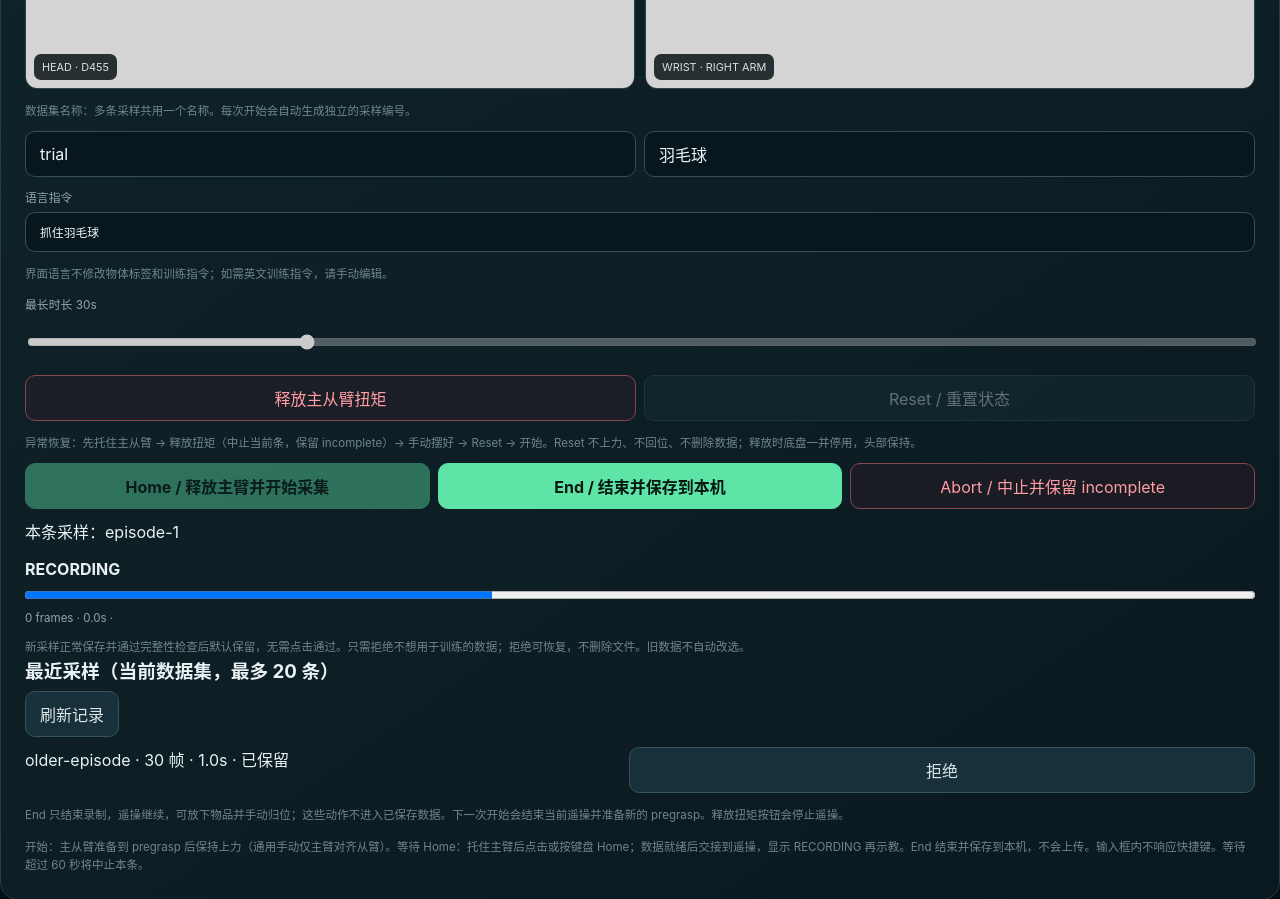
two-stage collection controls › can reject a previous episode while recording another without changing current state
(page scrolled)
Click the button with aria-label "older-episode 拒绝". click: [942, 770]
box: 629,747 -> 1255,793
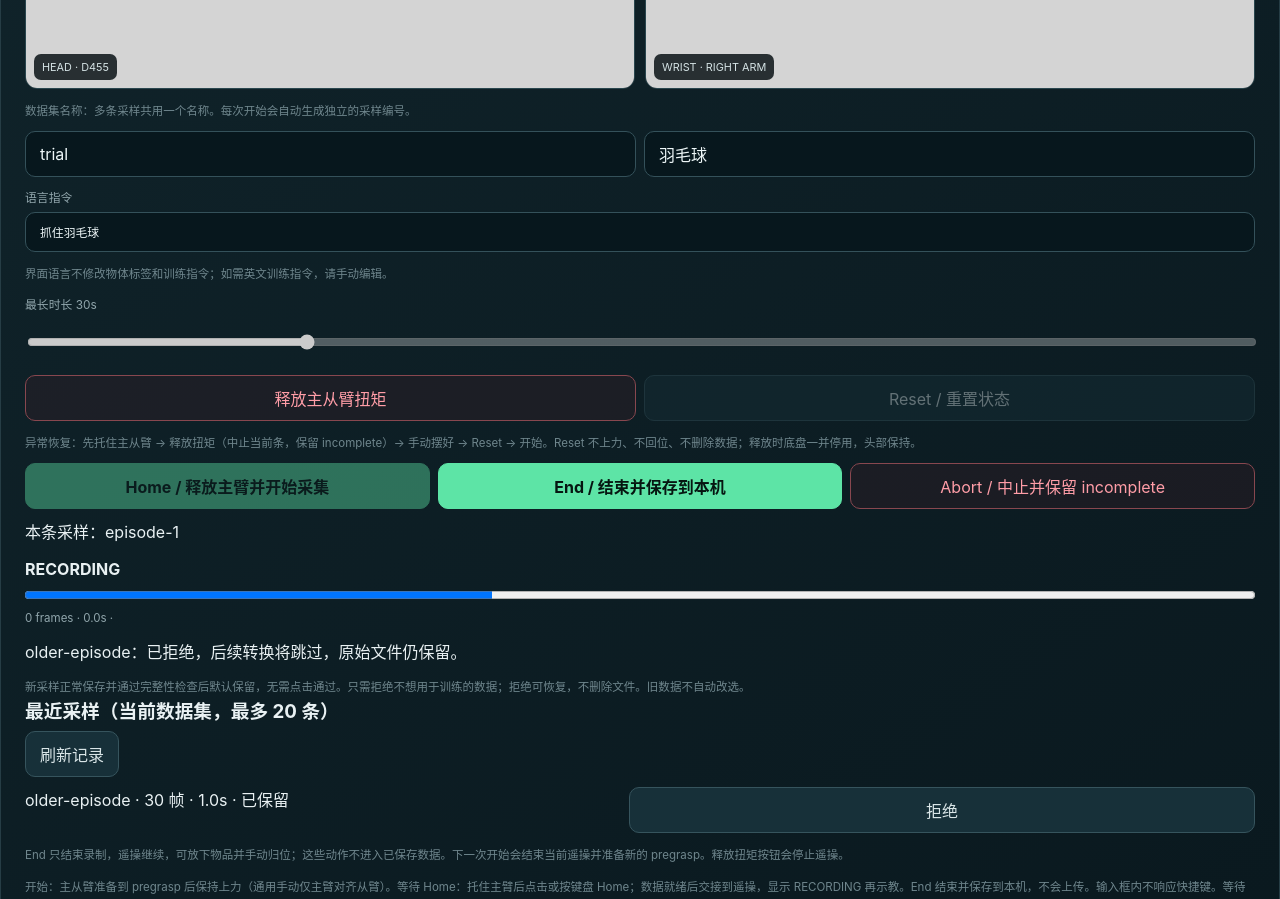
Expected: the text "older-episode：已拒绝，后续转换将跳过，原始文件仍保留。" is shown, 25,642 -> 466,662
